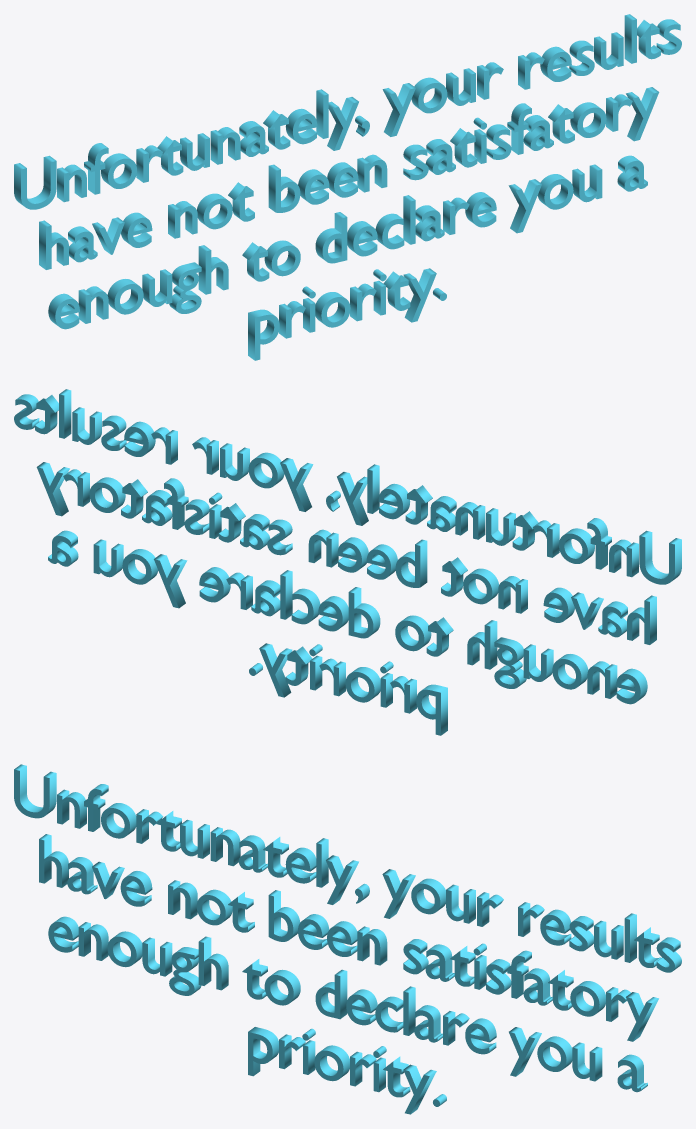
File: console_game_over_001.fbx
3 views of the same model, one above another, from view 1: azimuth 30°, elevation 25°; view 2: azimuth 150°, elevation 25°; view 3: azimuth 330°, elevation 25° (orthographic).
Parts seen in each view (by area): view 1: Txt_Test_01.012; view 2: Txt_Test_01.012; view 3: Txt_Test_01.012.
Part boxes in pixels (left/top/right/bottom): Txt_Test_01.012: left=14, top=14, right=681, bottom=360; Txt_Test_01.012: left=14, top=389, right=681, bottom=735; Txt_Test_01.012: left=14, top=764, right=681, bottom=1114.
Bounding box in the file's own units: 1.47 × 0.5289 × 0.027.
